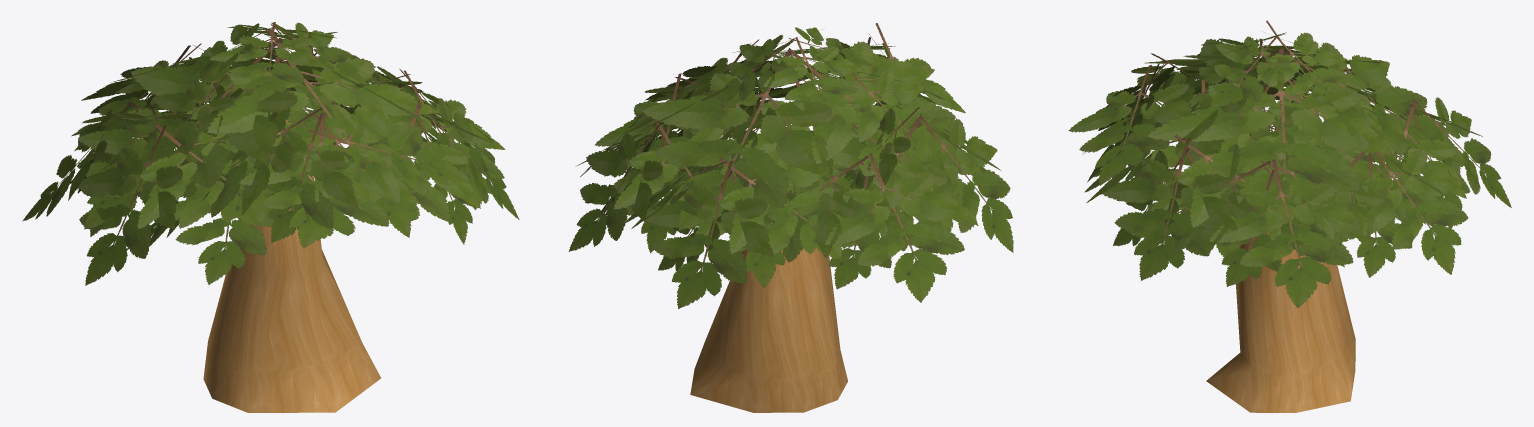
The model's file is Albero3.glb.
3 renders of one model, left to right at view 1: azimuth 30°, elevation 25°; view 2: azimuth 150°, elevation 25°; view 3: azimuth 270°, elevation 25°, orthographic. The views are drawn at different scales.
Visible parts, largest first — view 1: Albero_03; view 2: Albero_03; view 3: Albero_03.
Part boxes in pixels (left/top/right/bottom): Albero_03: left=22, top=22, right=519, bottom=412; Albero_03: left=568, top=23, right=1013, bottom=412; Albero_03: left=1068, top=20, right=1511, bottom=412.
Bounding box in the file's own units: 10.6 × 8.59 × 10.75.
1 material, 1 textured.
